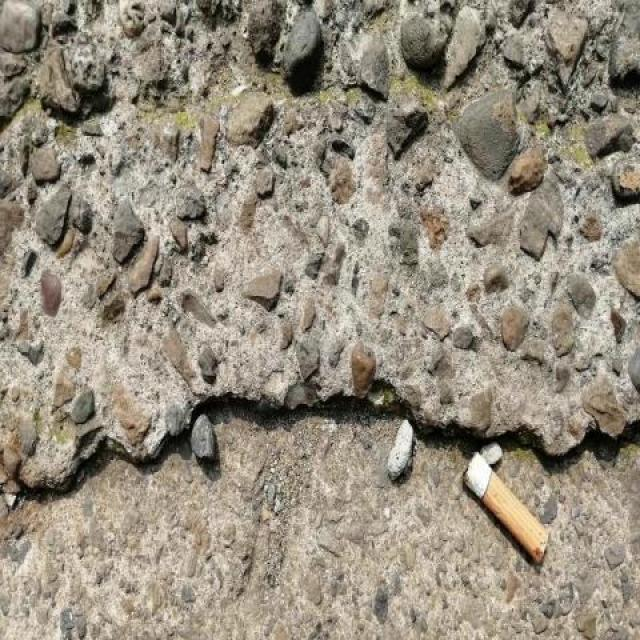non-organic waste: (460, 449, 552, 571)
